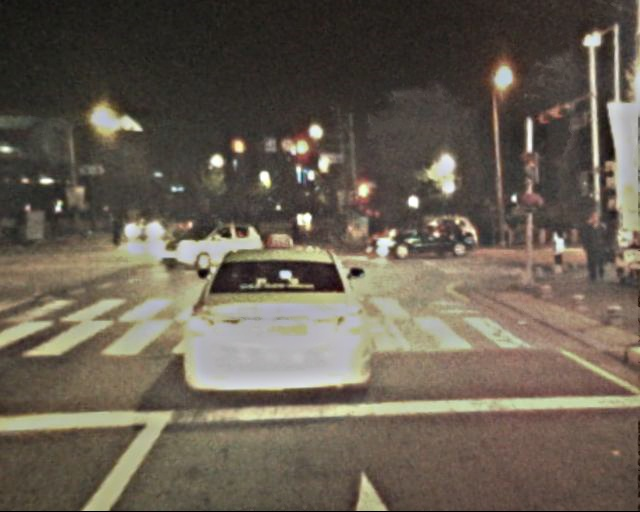person: (581, 210, 610, 280), (548, 227, 566, 272), (497, 214, 513, 250), (107, 210, 125, 241), (284, 214, 298, 248)
